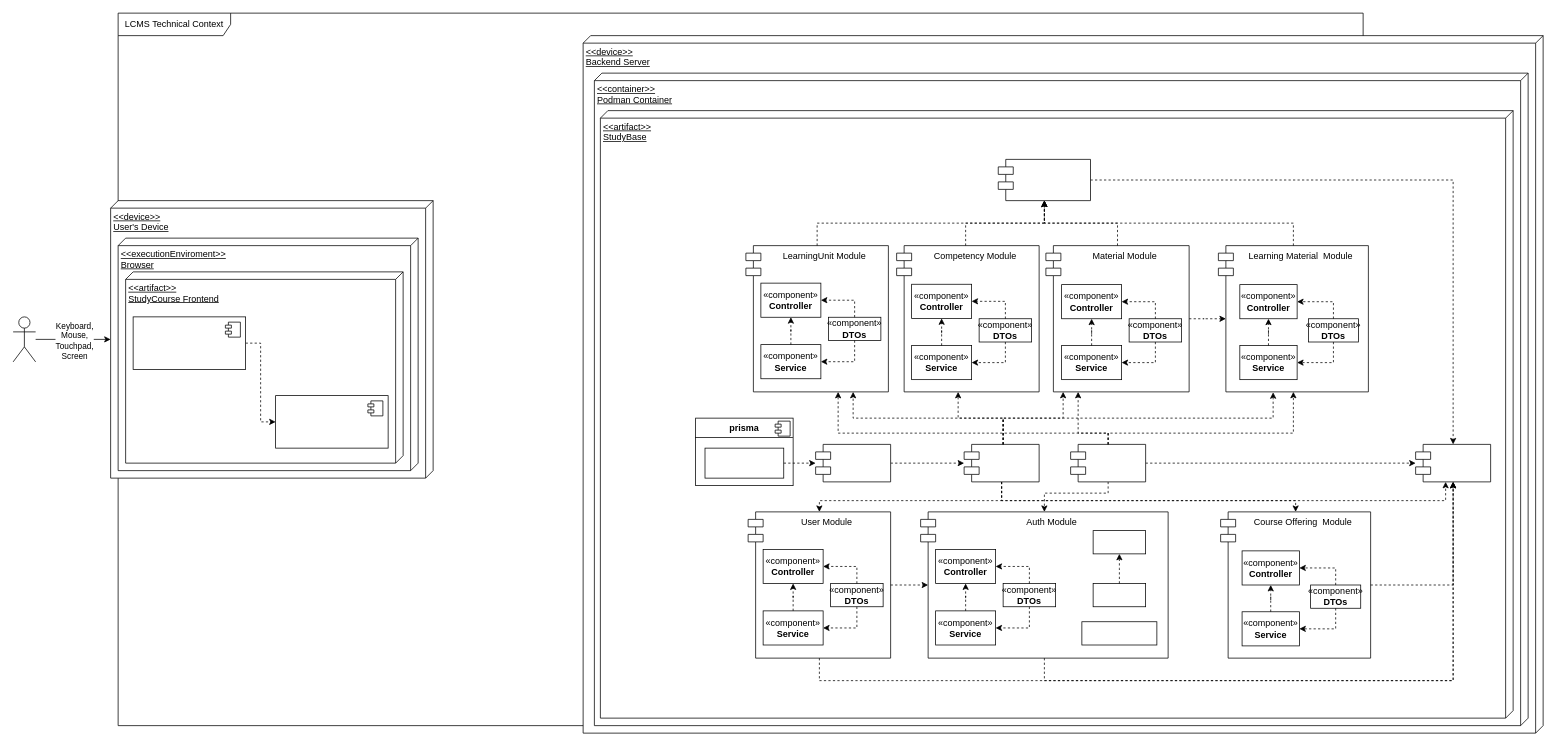
This 1556x746 diagram has some shape labels left out. Here are the shapes that lost their labels. From the top down, the centre of each, then its label:
the point at 1044,180: LCMS Module
the point at 24,339: User
the point at 189,342: «component» app/ (UI)
the point at 331,421: «component» shared/ (services)
the point at 744,462: <<DB Schema>> schema.prisma
the point at 853,463: Prisma Client
the point at 1001,463: Prisma Module
the point at 1108,463: Config Module
the point at 1453,463: App Module
the point at 1119,542: «component» guards
the point at 1119,595: «component» strategies
the point at 1119,633: «component» Public decorator
